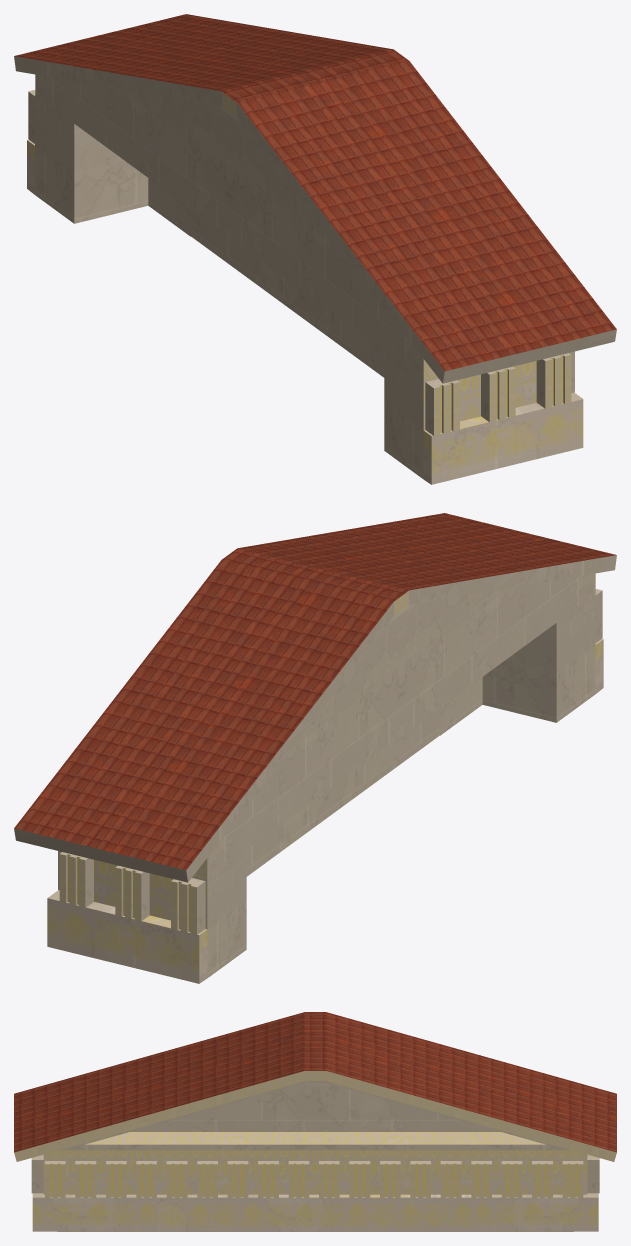
File: Sm_temple_front_02.glb
3 renders of one model, top to bottom at view 1: azimuth 30°, elevation 25°; view 2: azimuth 150°, elevation 25°; view 3: azimuth 270°, elevation 25°, orthographic. The views are drawn at different scales.
Parts seen in each view (by area): view 1: Sm_temple_front_02; view 2: Sm_temple_front_02; view 3: Sm_temple_front_02.
Part boxes in pixels (x1,y1,x2,y2): Sm_temple_front_02: (14, 14, 616, 484); Sm_temple_front_02: (14, 513, 616, 983); Sm_temple_front_02: (14, 1012, 616, 1231).
Size of the model in its own units: 6 by 8 by 26.
2 materials, 2 textured.
